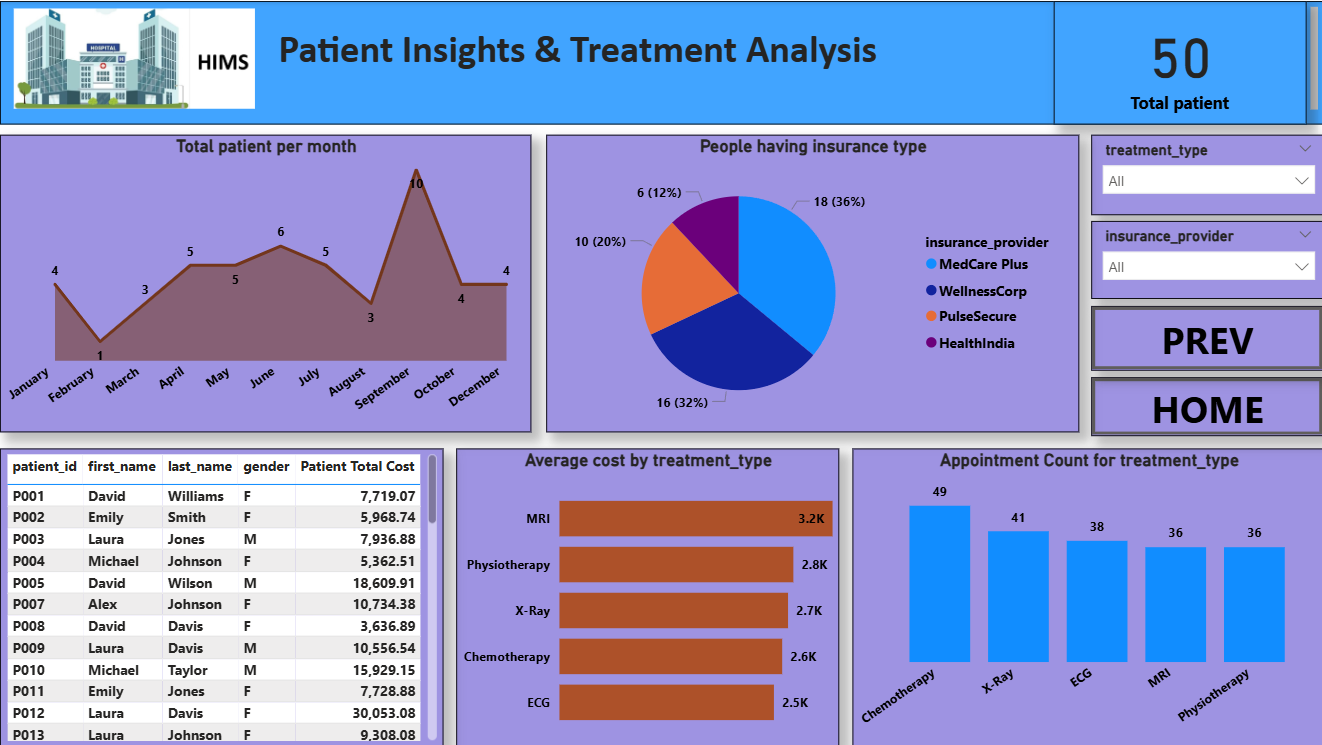

The dashboard page shown, as its layout file describes it:
{"tool":"powerbi","page":{"name":"Patient","canvas":[1280,720],"ordinal":2},"visuals":[{"type":"textbox","box":[0,0,1278.9,119],"z":0},{"type":"image","box":[8.4,0,242.5,111],"z":1000},{"type":"clusteredBarChart","fields":{"Category":["treatments.treatment_type"],"Y":["treatments.Average cost"]},"box":[440.5,432,369.6,287.5],"z":2000},{"type":"lineChart","title":"Total patient per month","fields":{"Category":["patients.registration_date.Variation.Date Hierarchy.Month"],"Y":["patients.Total patient"]},"box":[0,128.9,512.7,287.5],"z":3000},{"type":"tableEx","fields":{"Values":["patients.patient_id","patients.first_name","patients.last_name","patients.gender","patients.Patient Total Cost"]},"box":[0,432,427.7,287.5],"z":4000},{"type":"card","fields":{"Values":["patients.Total patient"]},"box":[1017,0,243.7,119.4],"z":5000},{"type":"clusteredColumnChart","title":"Appointment Count for treatment_type","fields":{"Y":["doctors.Appointment Count"],"Category":["treatments.treatment_type"]},"box":[822.8,432,456,287.5],"z":6000},{"type":"slicer","fields":{"Values":["treatments.treatment_type"]},"box":[1053.7,128.9,226.6,77.9],"z":7000},{"type":"slicer","fields":{"Values":["patients.insurance_provider"]},"box":[1053.4,212.4,226.6,75.1],"z":8000},{"type":"actionButton","title":"HOME","box":[1053.7,362.6,225.2,56.6],"z":9000},{"type":"actionButton","title":"HOME","box":[1053.7,294.6,225.2,62.3],"z":10000},{"type":"pieChart","title":"People having insurance type","fields":{"Category":["patients.insurance_provider"],"Y":["patients.Total patient"]},"box":[526.8,128.9,514.1,287.5],"z":11000}]}

Visuals, with their boxes in screenshot pixels (x1, y1, x2, y2), scaled from the page's 1280x720 canvas onto the 1322x745 screenshot:
textbox: <bbox>0, 0, 1321, 123</bbox>
image: <bbox>9, 0, 259, 115</bbox>
clusteredBarChart - treatments.treatment_type x treatments.Average cost: <bbox>455, 447, 837, 744</bbox>
"Total patient per month" lineChart: <bbox>0, 133, 530, 431</bbox>
tableEx - patients.patient_id x patients.first_name: <bbox>0, 447, 442, 744</bbox>
card - patients.Total patient: <bbox>1050, 0, 1302, 124</bbox>
"Appointment Count for treatment_type" clusteredColumnChart: <bbox>850, 447, 1321, 744</bbox>
slicer - treatments.treatment_type: <bbox>1088, 133, 1321, 214</bbox>
slicer - patients.insurance_provider: <bbox>1088, 220, 1321, 297</bbox>
"HOME" actionButton: <bbox>1088, 375, 1321, 434</bbox>
"HOME" actionButton: <bbox>1088, 305, 1321, 369</bbox>
"People having insurance type" pieChart: <bbox>544, 133, 1075, 431</bbox>
